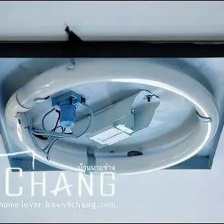light_bulb: (0, 56, 223, 181)
